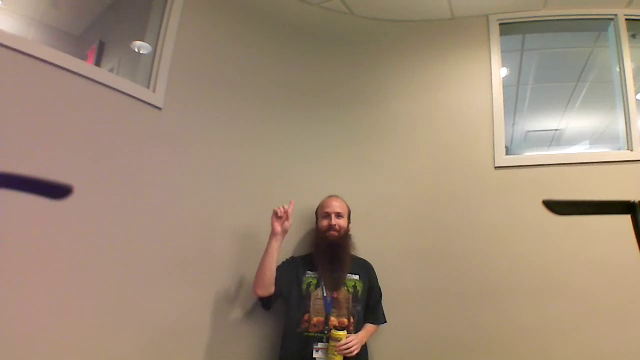up: (261, 193, 298, 242)
